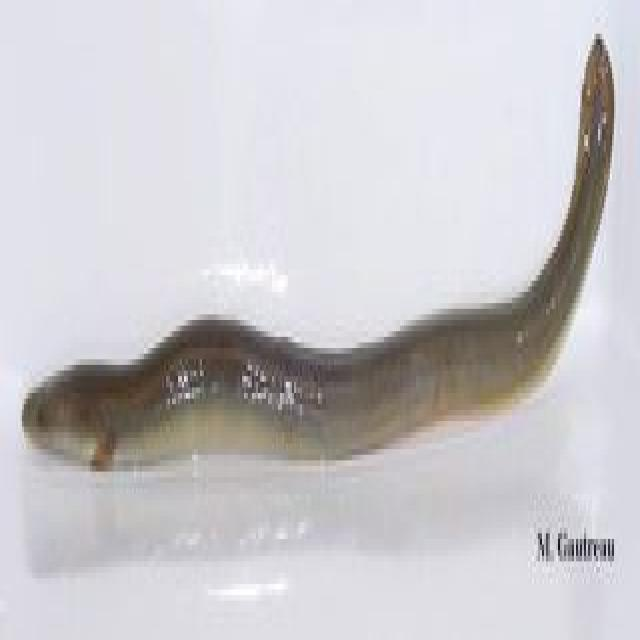Freshwater-Eel: (4, 37, 620, 501)
